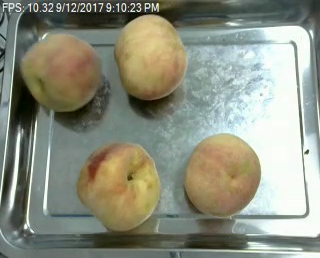Peach: (75, 140, 160, 232), (21, 31, 103, 113), (184, 132, 262, 217), (115, 12, 187, 99)
